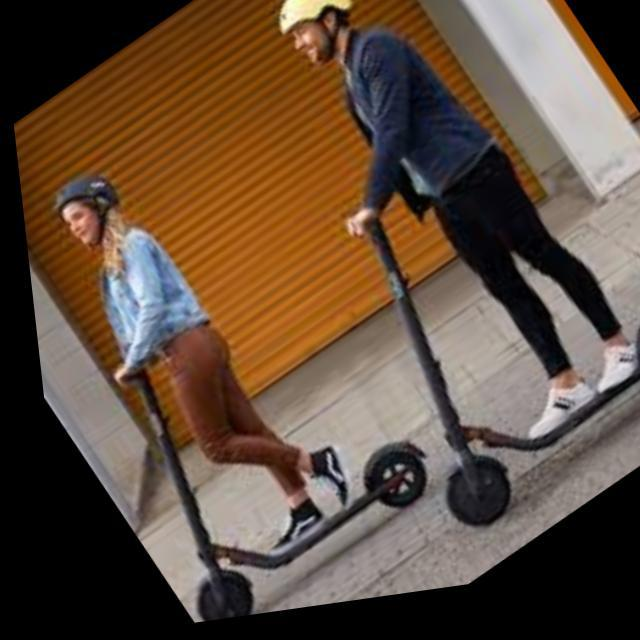Helmet: (272, 0, 354, 75), (43, 172, 123, 248)
